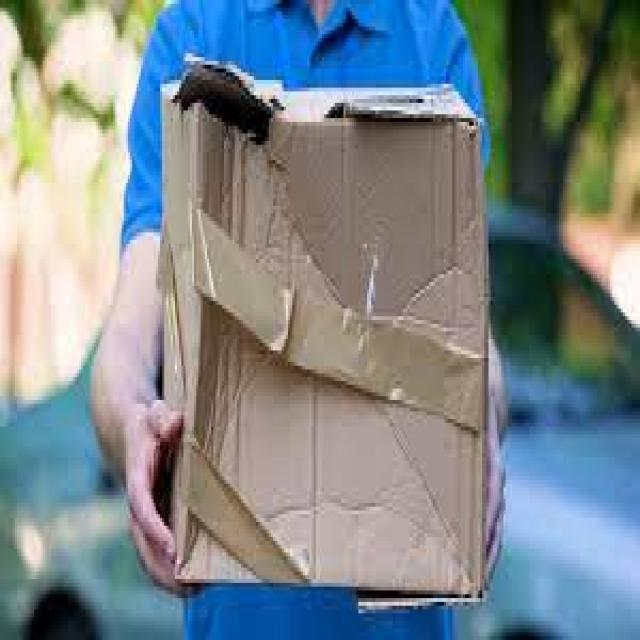Kardus kondisi bagus: (157, 53, 486, 607)
